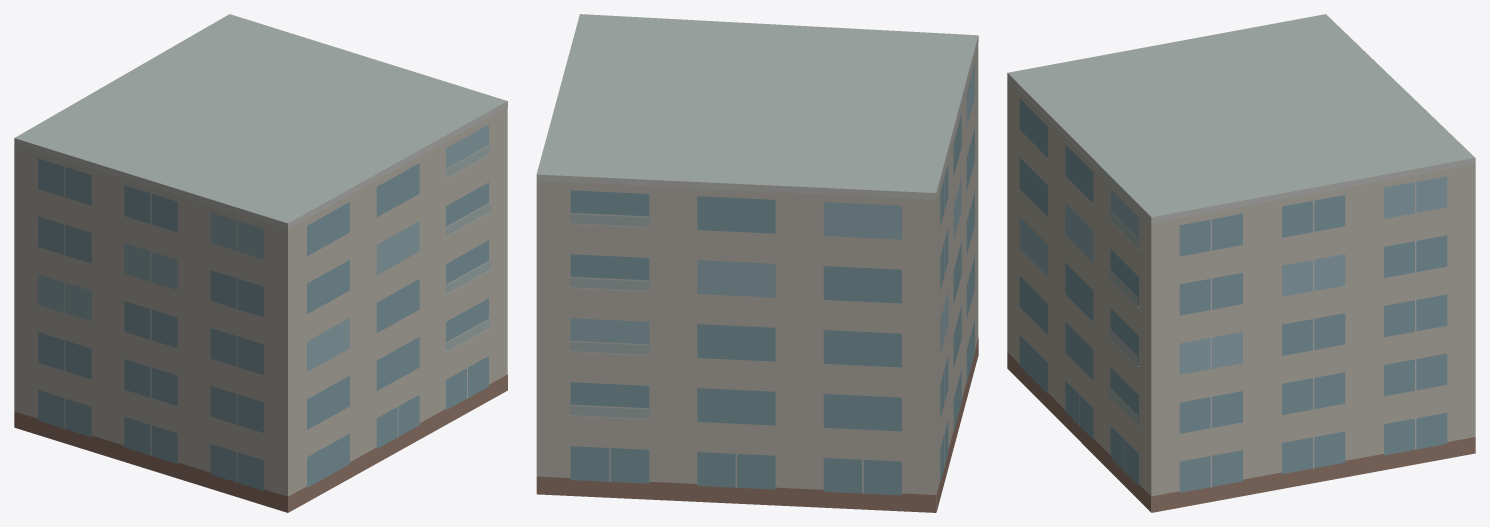
File: survey-upis-32610713.glb
The picture shows the model from 3 angles, left to right: view 1: azimuth 30°, elevation 25°; view 2: azimuth 150°, elevation 25°; view 3: azimuth 270°, elevation 25°; orthographic projection. The views are drawn at different scales.
Parts seen in each view (by area): view 1: survey-upis-32610713.tmp; view 2: survey-upis-32610713.tmp; view 3: survey-upis-32610713.tmp.
Boxes of the visible parts, box(x1,y1,x2,y2) form: survey-upis-32610713.tmp: box(14, 14, 507, 512); survey-upis-32610713.tmp: box(536, 14, 978, 512); survey-upis-32610713.tmp: box(1007, 14, 1475, 512).
Bounding box in the file's own units: 17.64 × 11.95 × 17.16.
